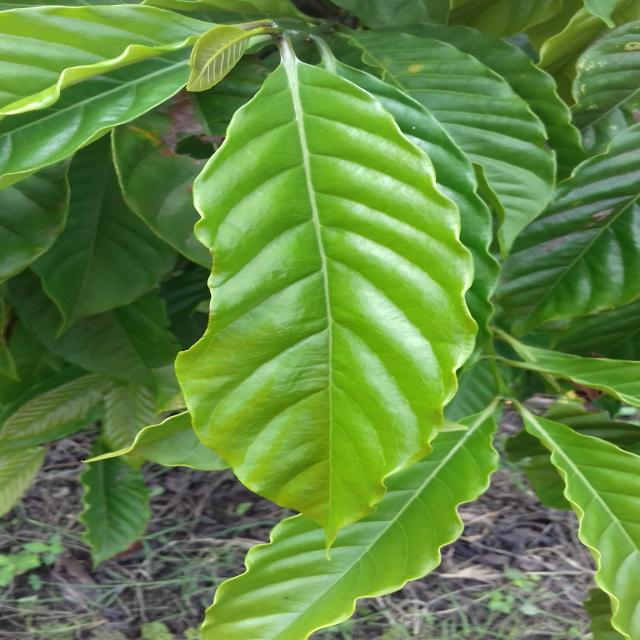Sanas: (173, 43, 480, 544)
